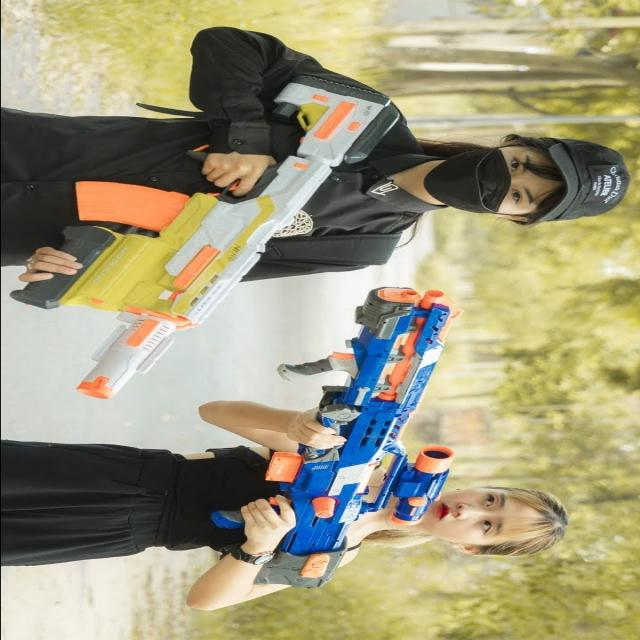Nerf gun: (8, 70, 402, 403), (202, 280, 468, 593)
